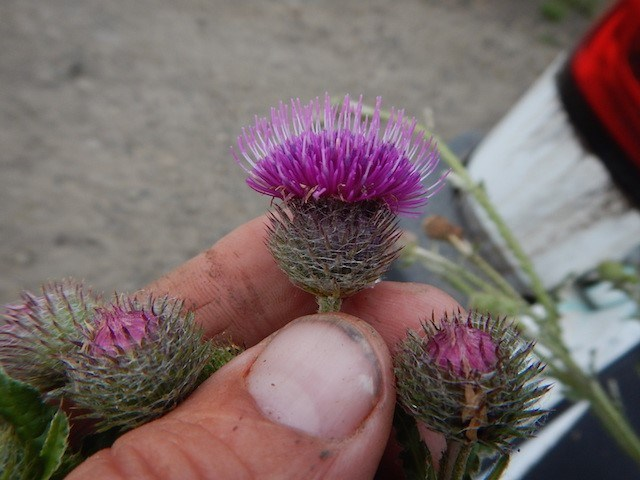thistle: (223, 95, 428, 311), (395, 309, 546, 454), (70, 304, 217, 426)
